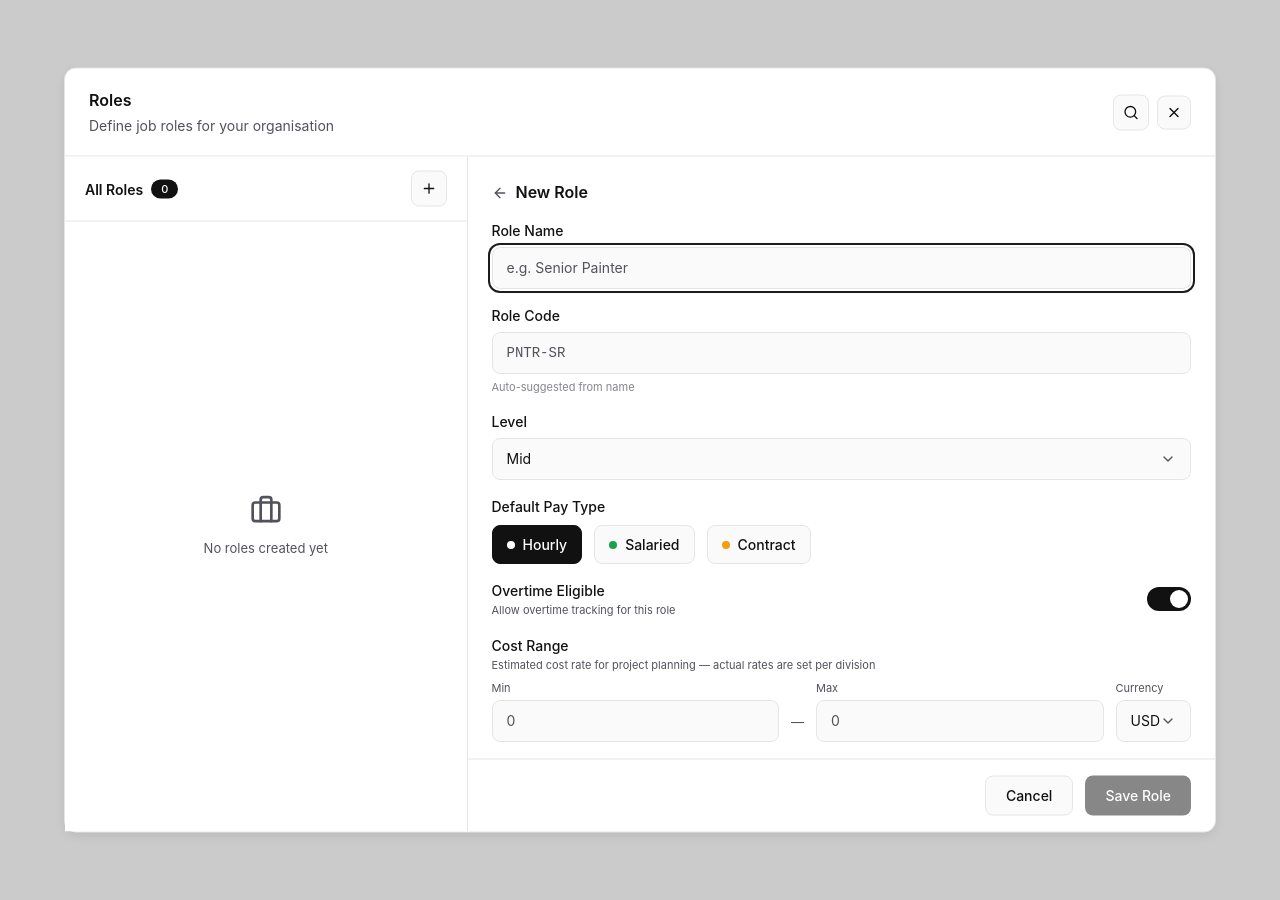
RolesModal › shows search modal when search button clicked
Click the button named "Search roles". click: x=1131, y=112
box: [1113,94,1149,130]
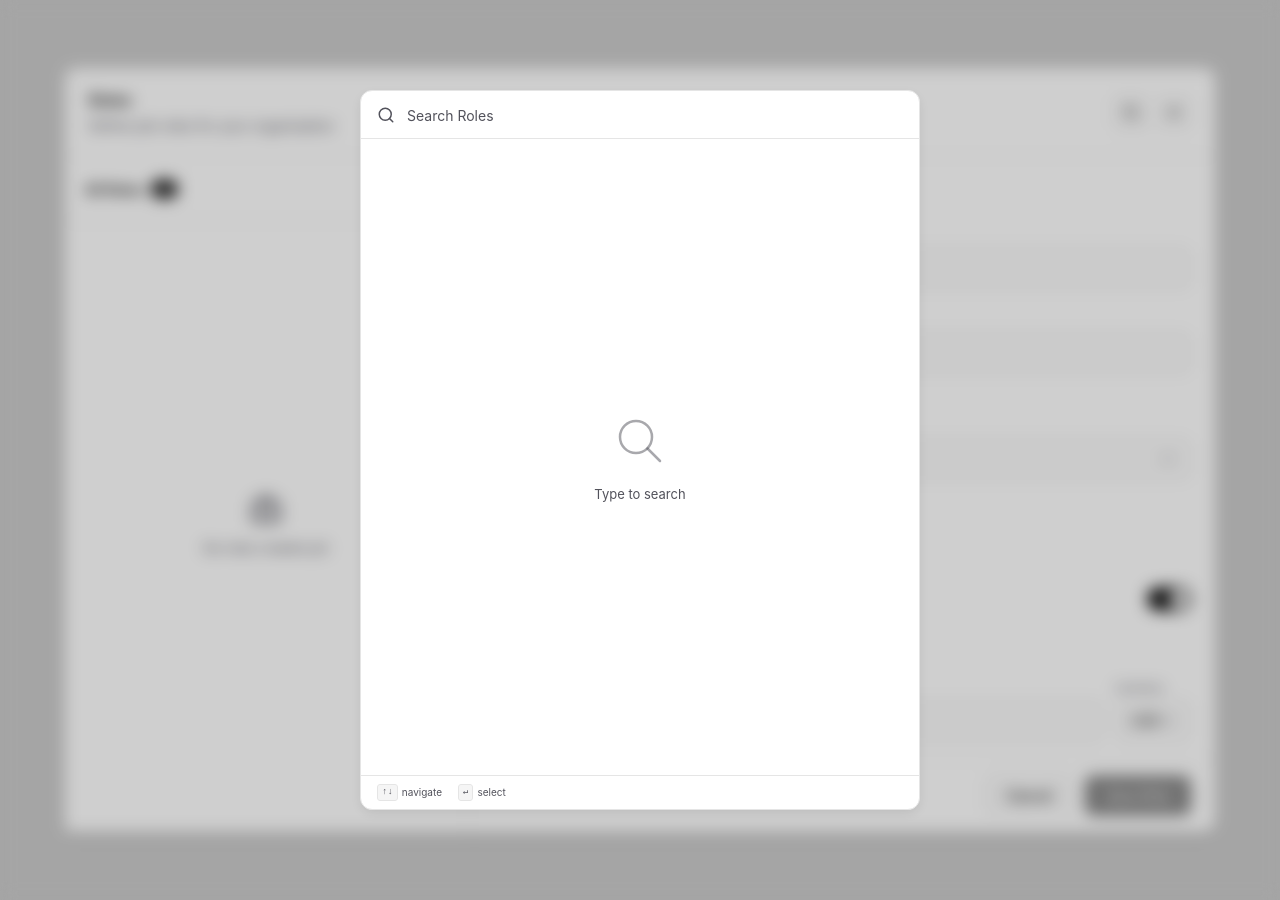
Check: the element with test id "spotlight-search" is shown, box [360,90,920,810]
